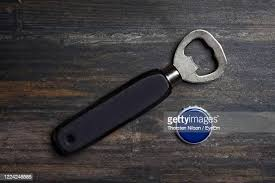bottleopener: (52, 29, 226, 155)
